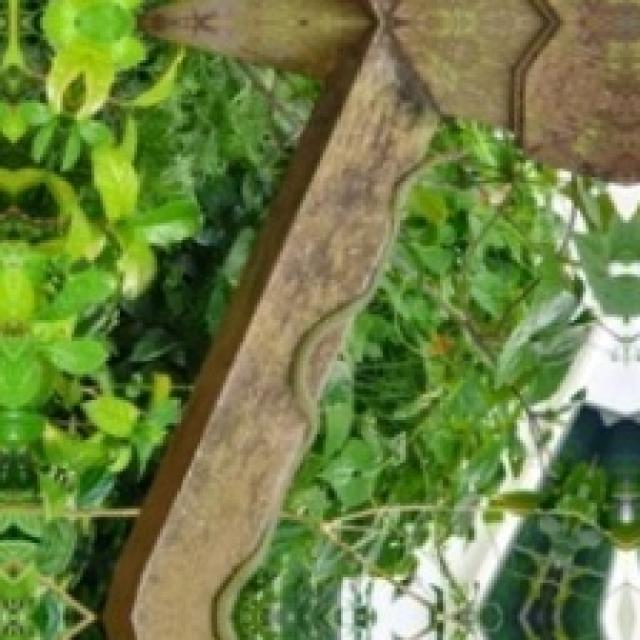paradise tree snake: (289, 160, 424, 446), (211, 510, 280, 639)
